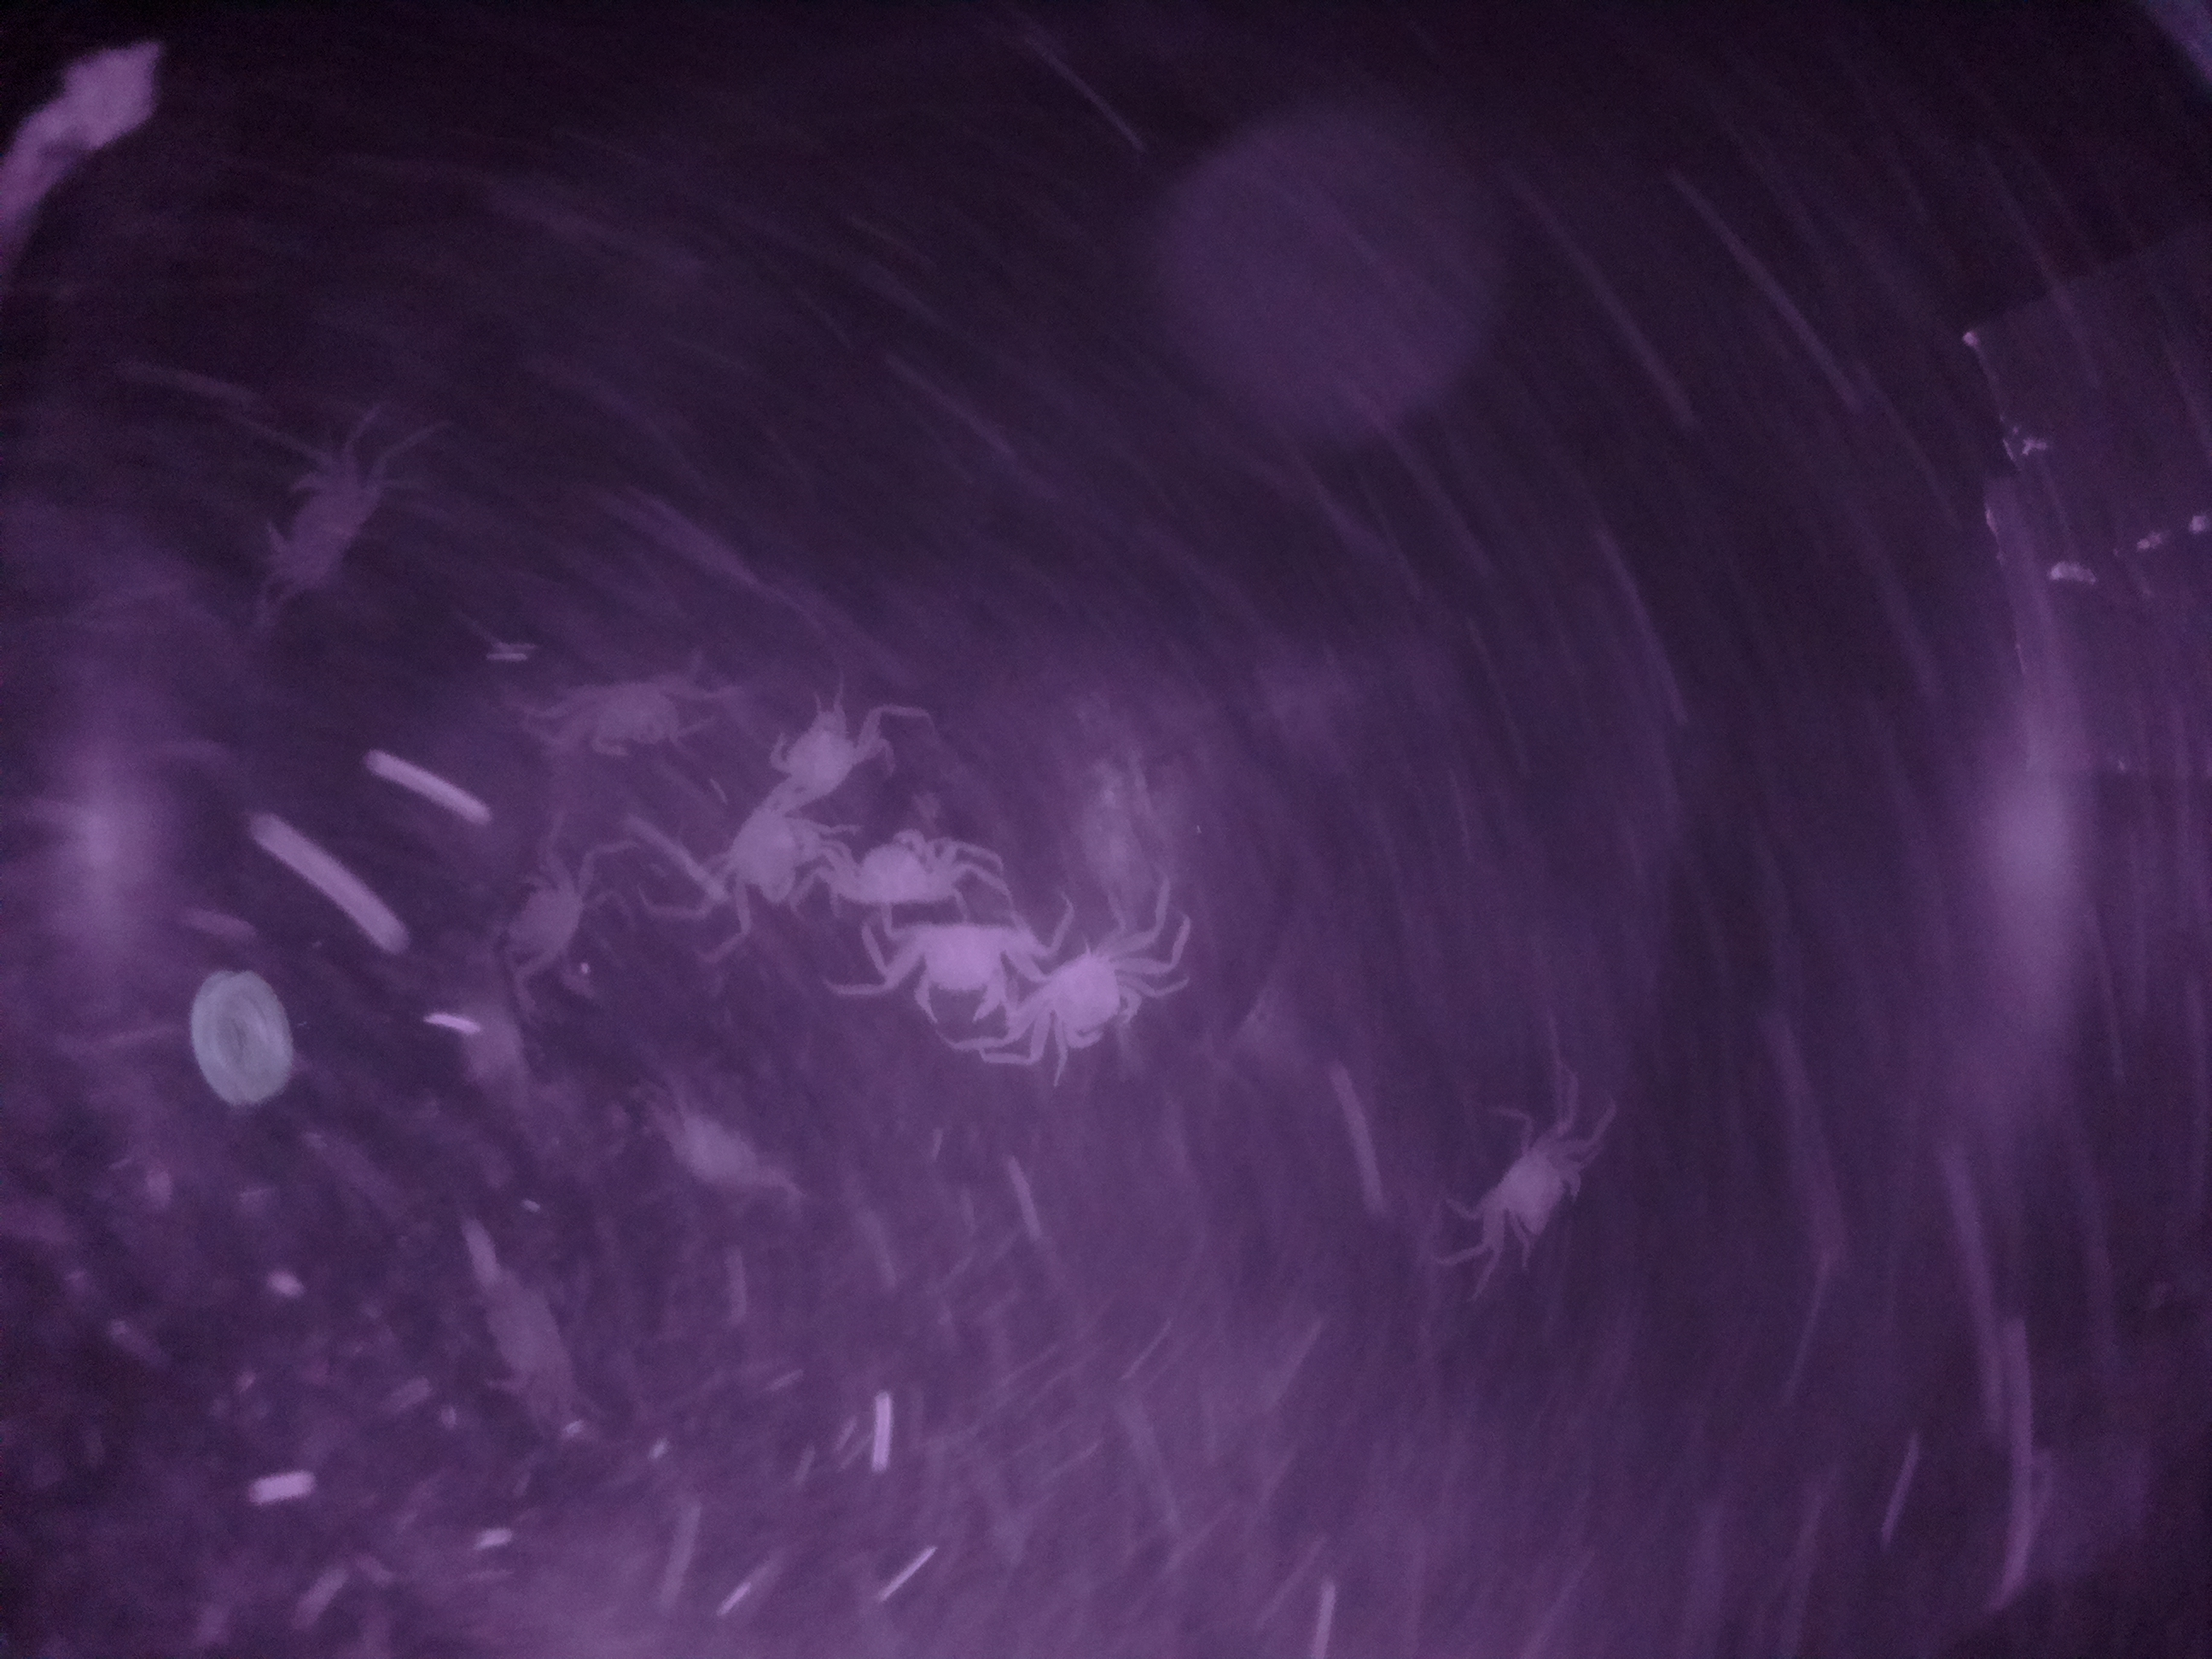Crab: (993, 915, 1155, 1079), (1460, 1107, 1599, 1270), (815, 814, 979, 922)
